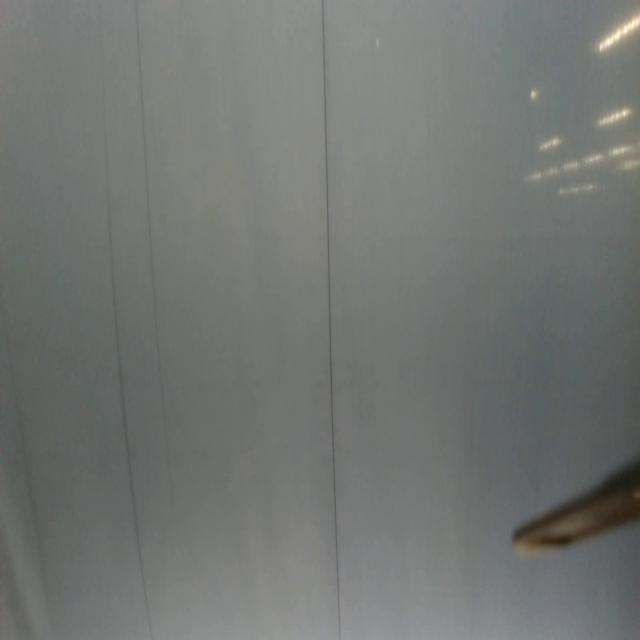crease: (102, 93, 154, 640), (319, 0, 344, 640), (133, 0, 169, 411), (4, 327, 50, 599)
